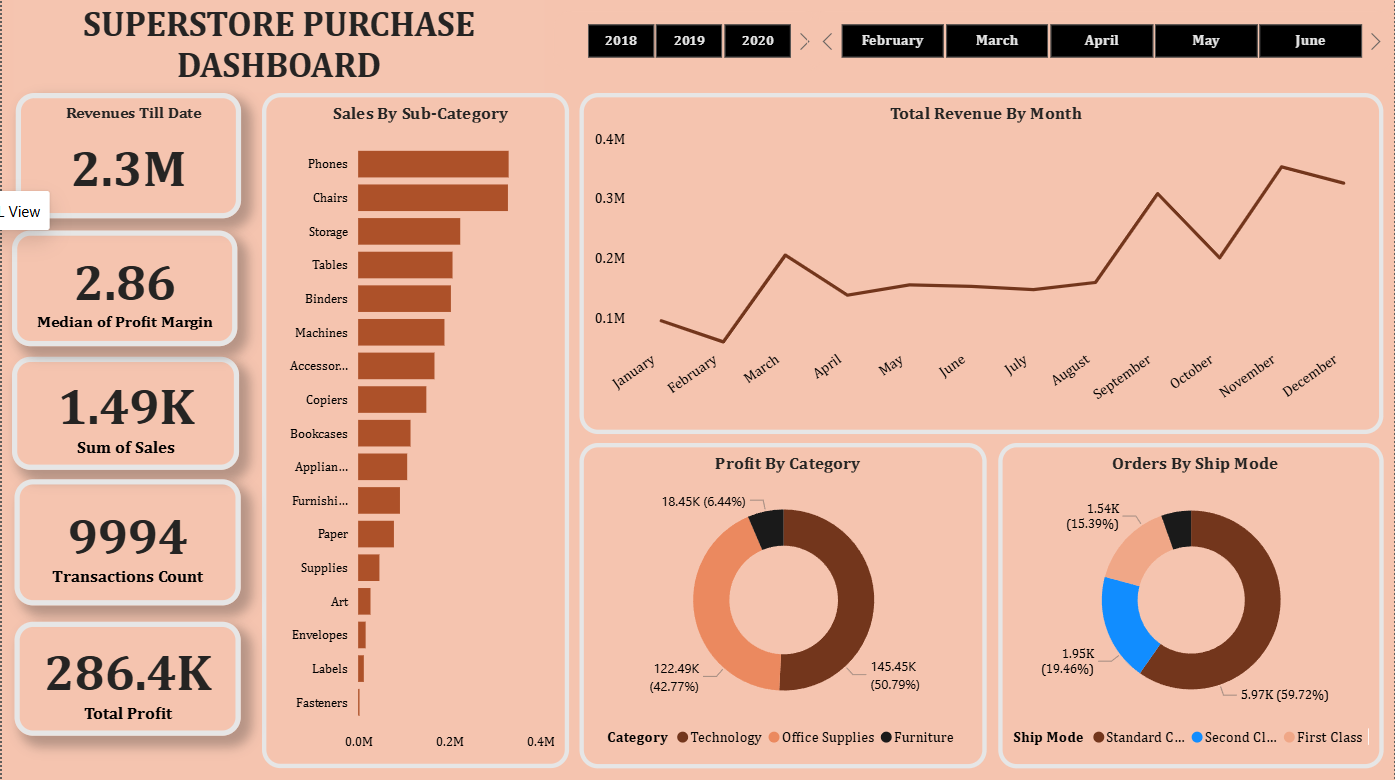

The dashboard page shown, as its layout file describes it:
{"tool":"powerbi","page":{"name":"dashboard1","canvas":[1280,720],"ordinal":0},"visuals":[{"type":"slicer","fields":{"Values":["Orders.Order Date.Variation.Date Hierarchy.Year"]},"box":[506.9,11.5,248.3,56.3],"z":0},{"type":"card","fields":{"Values":["Sum(Orders.Sales)"]},"box":[12.6,87.4,206.9,114.9],"z":1000},{"type":"card","fields":{"Values":["Sum(Orders.Sales)"]},"box":[8.8,330,208.8,103.8],"z":2000},{"type":"donutChart","title":"Orders By Ship Mode","fields":{"Category":["Orders.Ship Mode"],"Y":["CountNonNull(Orders.Order ID)"]},"box":[916.1,409.2,354,298.9],"z":3000},{"type":"barChart","title":"Sales By Sub-Category","fields":{"Category":["Orders.Sub-Category"],"Y":["Sum(Orders.Sales)"]},"box":[239.1,87.4,282.8,620.7],"z":4000},{"type":"lineChart","title":"Total Revenue By Month","fields":{"Category":["Orders.Order Date.Variation.Date Hierarchy.Month"],"Y":["Sum(Orders.Sales)"]},"box":[531,87.4,739.1,313.8],"z":5000},{"type":"donutChart","title":"Profit By Category","fields":{"Y":["Sum(Orders.Profit)"],"Category":["Orders.Category"]},"box":[531,409.2,374.7,298.9],"z":6000},{"type":"card","title":"Transactions","fields":{"Values":["CountNonNull(Orders.Order ID)"]},"box":[11.5,442.5,208,116.1],"z":7000},{"type":"slicer","fields":{"Values":["Orders.Order Date.Variation.Date Hierarchy.Month"]},"box":[740,11.2,540,56.2],"z":8000},{"type":"card","fields":{"Values":["Median(Orders.Profit Margin)"]},"box":[8.8,213.8,207.5,106.2],"z":9000},{"type":"card","fields":{"Values":["Sum(Orders.Profit)"]},"box":[11.5,573.6,208,104.6],"z":10000},{"type":"textbox","box":[10.2,0,488.6,87.5],"z":11000}]}

Visuals, with their boxes in screenshot pixels (x1, y1, x2, y2), scaled from the page's 1280x720 canvas onto the 1395x780 screenshot:
slicer - Orders.Order Date.Variation.Date Hierarchy.Year: box=[552, 12, 823, 73]
card - Sum(Orders.Sales): box=[14, 95, 239, 219]
card - Sum(Orders.Sales): box=[10, 358, 237, 470]
"Orders By Ship Mode" donutChart: box=[998, 443, 1384, 767]
"Sales By Sub-Category" barChart: box=[261, 95, 569, 767]
"Total Revenue By Month" lineChart: box=[579, 95, 1384, 435]
"Profit By Category" donutChart: box=[579, 443, 987, 767]
"Transactions" card: box=[13, 479, 239, 605]
slicer - Orders.Order Date.Variation.Date Hierarchy.Month: box=[806, 12, 1394, 73]
card - Median(Orders.Profit Margin): box=[10, 232, 236, 347]
card - Sum(Orders.Profit): box=[13, 621, 239, 735]
textbox: box=[11, 0, 544, 95]
